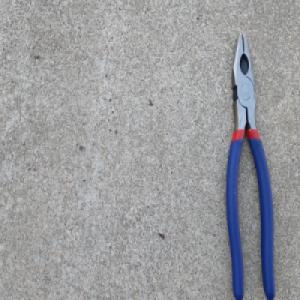Pliers: (224, 30, 277, 300)
